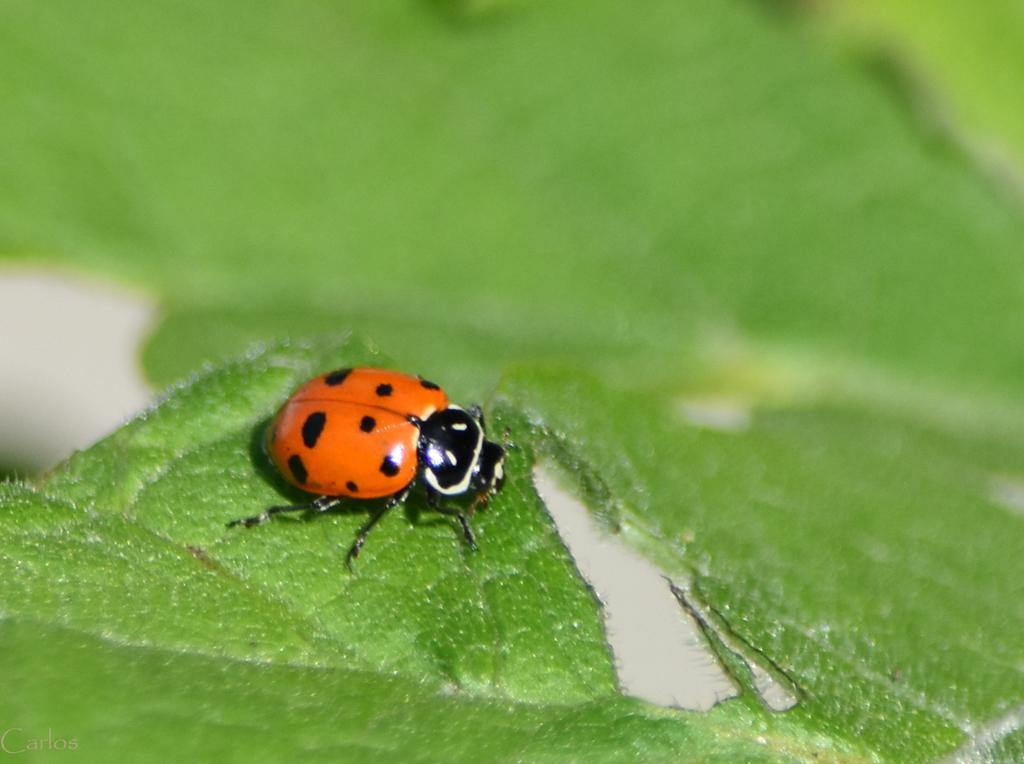ladybug: (223, 361, 515, 579)
